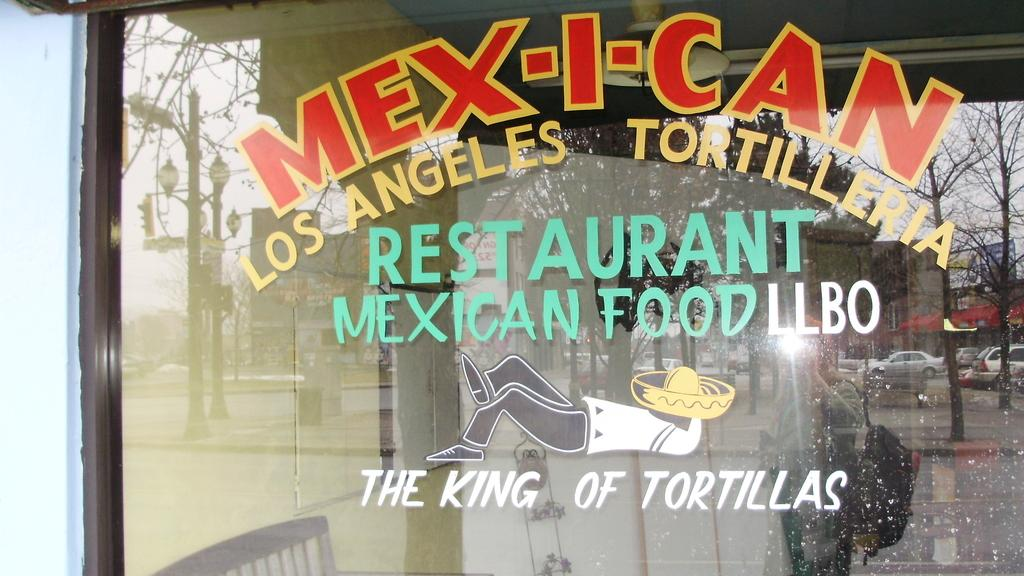Hat: (630, 366, 736, 418)
